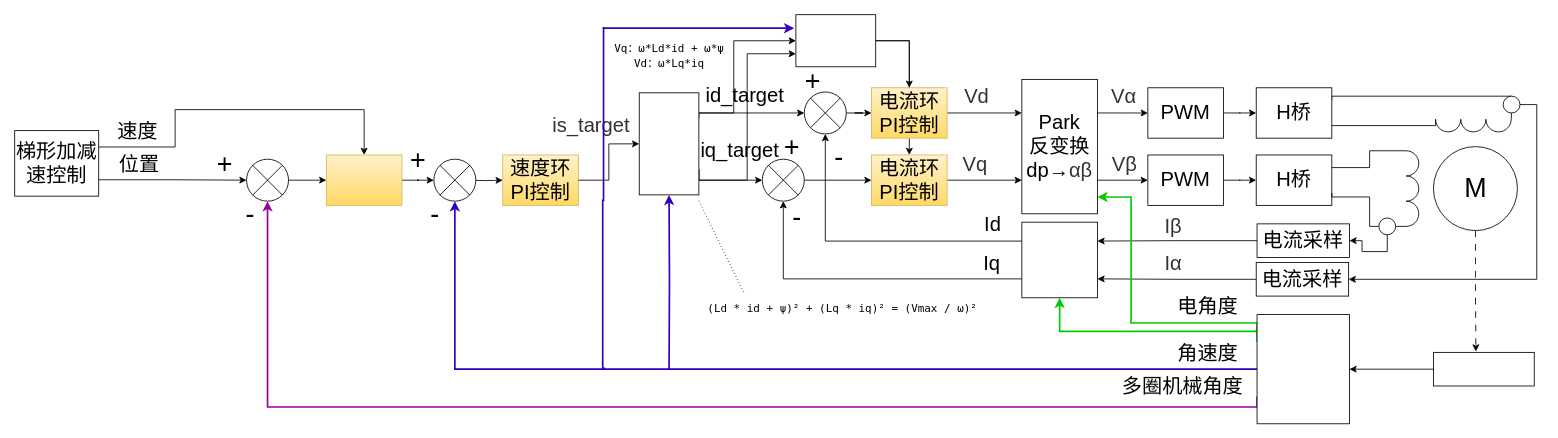
Some shapes in this 1558 by 438 pixel diagram are drawn without their labels. The shapes that lost their labels are listed below. From the top down, each one's box as (x1, y1, x2, y2) in pixels, then its label:
(795, 14, 876, 67): 电流环前馈
(638, 92, 699, 195): 弱磁控制
(326, 154, 402, 205): 位置环PD 控制
(1021, 221, 1097, 298): Park 变换 dq← αβ
(1256, 314, 1349, 424): 角度 校准 逻辑
(1433, 352, 1534, 386): 磁编码器
